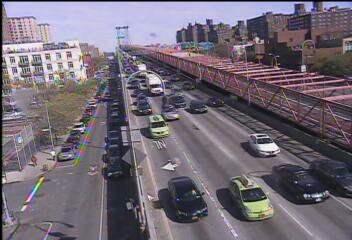neg: (13, 88, 41, 125), (188, 28, 215, 64), (176, 156, 201, 190), (117, 117, 141, 149), (45, 29, 69, 60), (77, 134, 100, 165), (318, 123, 340, 153), (273, 156, 294, 184), (243, 36, 264, 64), (15, 40, 35, 67), (277, 47, 297, 73), (289, 97, 309, 123), (72, 51, 91, 77), (231, 173, 249, 198), (174, 105, 192, 129), (302, 188, 319, 210), (262, 127, 279, 149), (127, 59, 142, 79), (216, 93, 230, 111), (91, 96, 104, 114), (120, 37, 130, 51)
pos: (25, 152, 39, 171)
